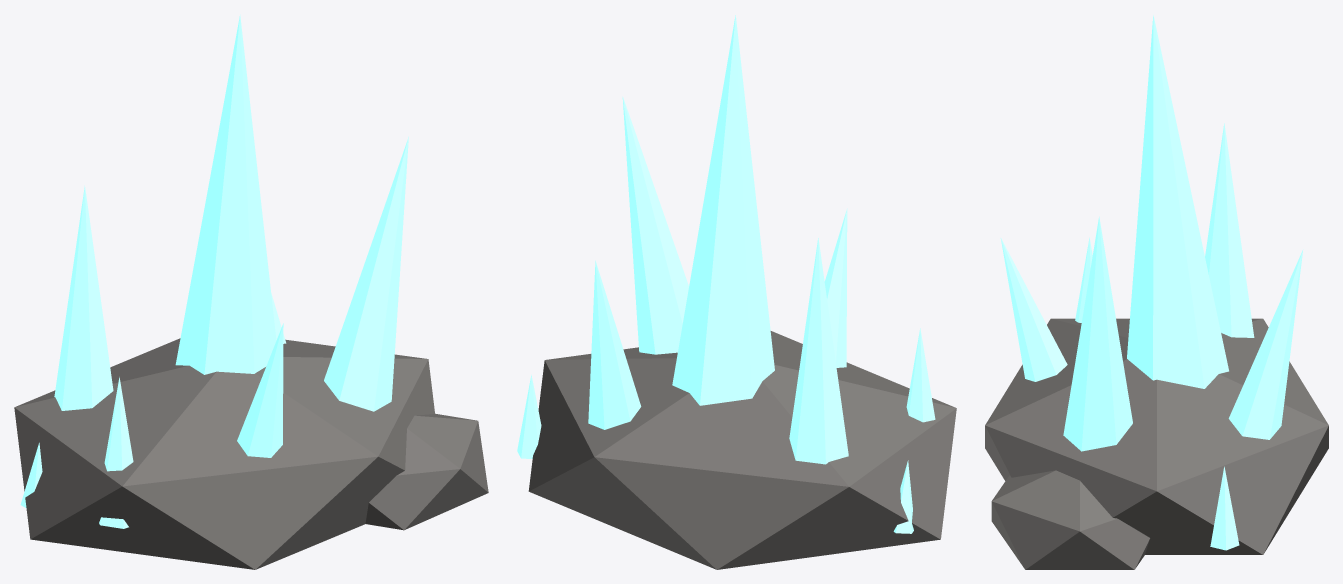
The model's file is helios_crystal.glb.
3 views of the same model, side by side, from view 1: azimuth 30°, elevation 25°; view 2: azimuth 150°, elevation 25°; view 3: azimuth 270°, elevation 25° (orthographic).
Parts seen in each view (by area): view 1: Base, Glow, Crystal3, Base2, Crystal2, Crystal4, Crystal6; view 2: Base, Glow, Crystal3, Crystal2, Crystal5, Crystal4, Crystal6, Shard1, Shard2; view 3: Base, Glow, Base2, Crystal3, Crystal2, Crystal5, Crystal4, Shard1, Crystal6.
Boxes of the visible parts, x1,y1,x2,y2 form: Base: (14,338,434,569); Glow: (175,14,276,374); Crystal3: (324,136,408,411); Base2: (365,413,488,530); Crystal2: (54,185,113,410); Crystal4: (237,323,283,457); Crystal6: (99,377,133,528); Base: (528,331,956,569); Glow: (672,15,774,405); Crystal3: (622,96,688,354); Crystal2: (789,238,848,464); Crystal5: (588,260,641,429); Crystal4: (824,208,847,367); Crystal6: (906,328,935,422); Shard1: (517,374,541,458); Shard2: (893,460,913,533); Base: (985,318,1328,554); Glow: (1127,15,1228,388); Base2: (991,470,1150,569); Crystal3: (1063,216,1132,451); Crystal2: (1205,123,1254,337); Crystal5: (1228,249,1303,439); Crystal4: (1000,238,1067,381); Shard1: (1210,466,1239,550); Crystal6: (1075,237,1092,322).
Bounding box in the file's own units: 2.41 × 2.97 × 1.79.
